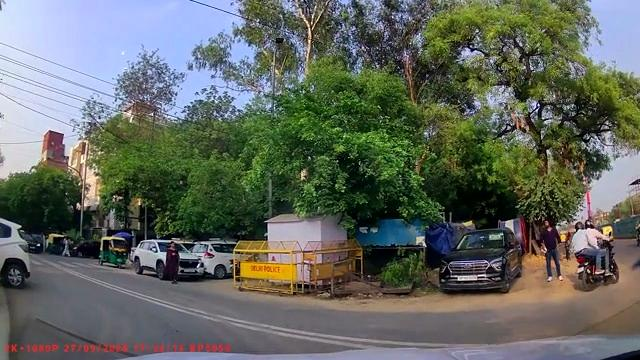passenger_with_helmet: (569, 219, 623, 292)
